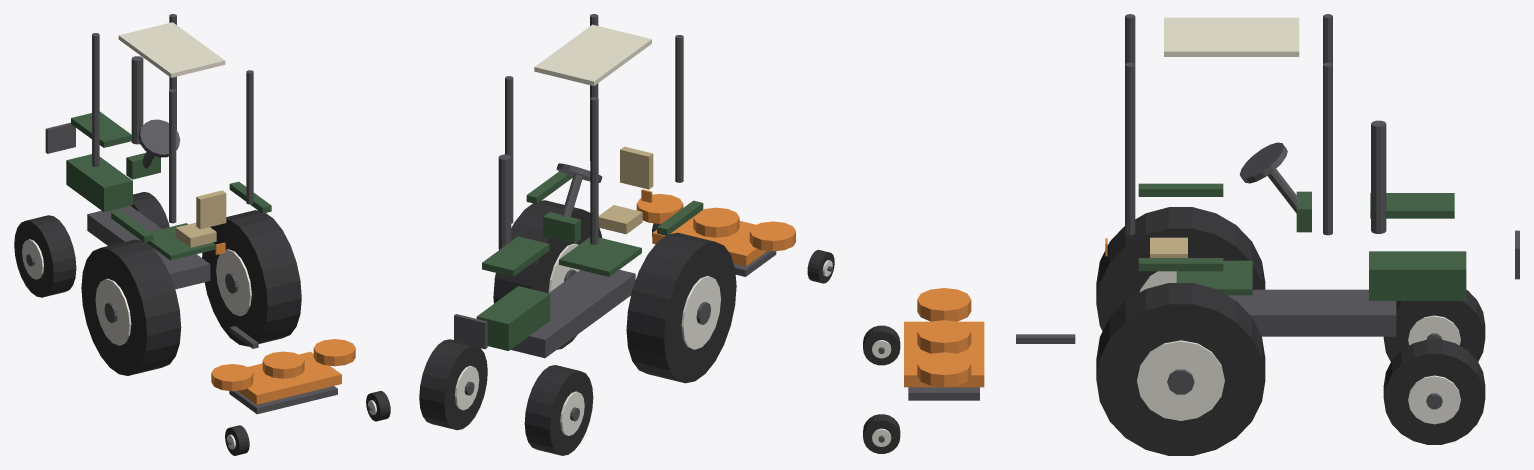
The model's file is tractor.glb.
3 renders of one model, left to right at view 1: azimuth 30°, elevation 25°; view 2: azimuth 150°, elevation 25°; view 3: azimuth 270°, elevation 25°, orthographic. The views are drawn at different scales.
Visible parts, largest first — view 1: WheelRR, WheelRL, WheelFR, Canopy, Chassis, Hood, Deck, WheelRR_hub, WheelRL_hub, Floor, HoodTop, DeckSkirt (+18 smaller); view 2: WheelRR, Chassis, WheelFR, WheelFL, Canopy, WheelRL, Hood, Floor, WheelRR_hub, HoodTop, Deck, Post_-0.34_0.32 (+18 smaller); view 3: WheelRL, WheelRR, WheelFL, Chassis, Canopy, WheelRL_hub, Hood, WheelFR, Deck, Post_0.34_-0.85, WheelFL_hub, HoodTop (+15 smaller).
Boxes of the visible parts, x1,y1,x2,y2 form: WheelRR: (81, 239, 181, 375); WheelRL: (202, 210, 301, 346); WheelFR: (14, 215, 76, 297); Canopy: (118, 22, 225, 77); Chassis: (87, 206, 210, 289); Hood: (66, 154, 132, 212); Deck: (237, 351, 341, 404); WheelRR_hub: (95, 278, 131, 345); WheelRL_hub: (216, 249, 251, 316); Floor: (146, 223, 215, 260); HoodTop: (71, 111, 132, 147); DeckSkirt: (229, 386, 337, 414); WheelRR: (626, 232, 736, 383); Chassis: (511, 269, 635, 358); WheelFR: (524, 365, 593, 455); WheelFL: (419, 339, 487, 430); Canopy: (534, 24, 651, 85); WheelRL: (493, 200, 602, 349); Hood: (476, 286, 550, 350); Floor: (559, 237, 641, 276); WheelRR_hub: (681, 275, 720, 349); HoodTop: (482, 236, 549, 276); Deck: (652, 217, 766, 266); Post_-0.34_0.32: (590, 97, 598, 244); WheelRL: (1096, 283, 1265, 455); WheelRR: (1096, 207, 1265, 330); WheelFL: (1383, 339, 1485, 444); Chassis: (1227, 289, 1396, 336); Canopy: (1164, 17, 1299, 56); WheelRL_hub: (1137, 340, 1224, 420); Hood: (1369, 251, 1466, 300); WheelFR: (1383, 289, 1485, 361); Deck: (904, 321, 984, 387); Post_0.34_-0.85: (1125, 62, 1135, 235); WheelFL_hub: (1408, 375, 1460, 424); HoodTop: (1370, 193, 1454, 218).
Size of the model in its own units: 1.44 by 2.43 by 3.88.
